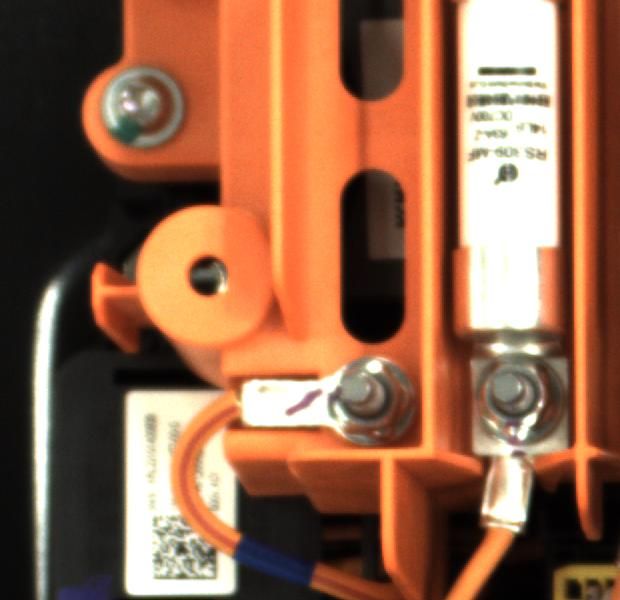screw_m: (87, 63, 200, 152)
screw_s: (321, 355, 417, 452), (472, 354, 564, 441)
